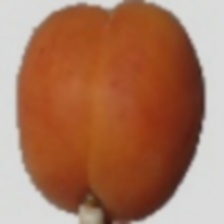apricot: (10, 18, 193, 193)
